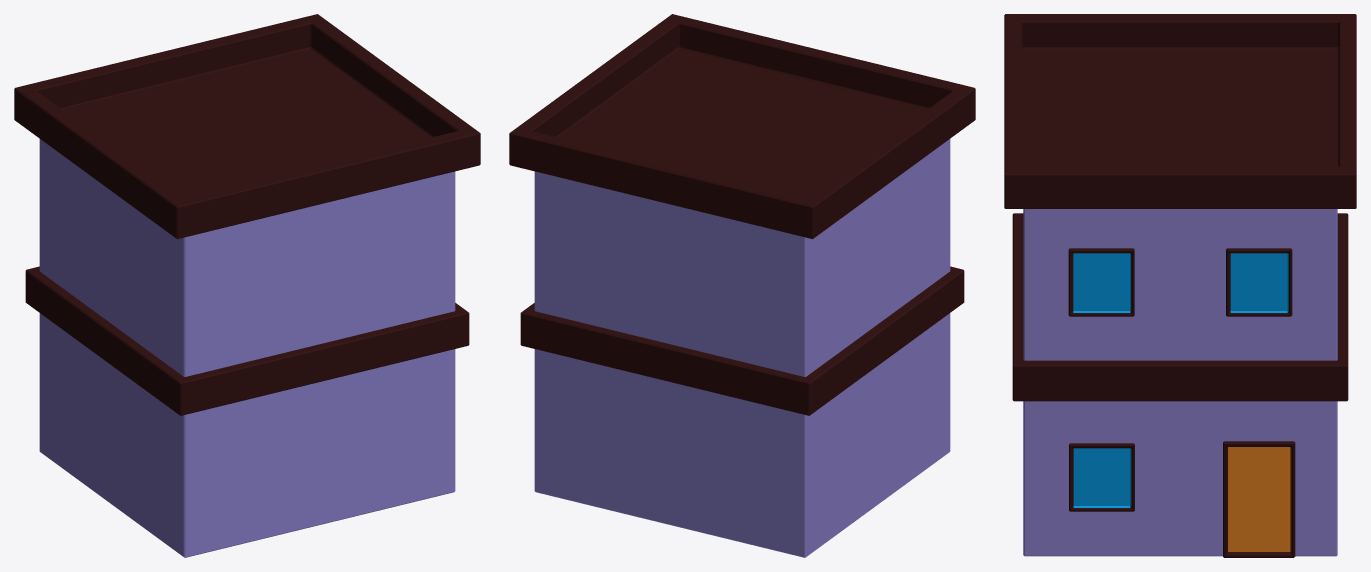
3 renders of one model, left to right at view 1: azimuth 30°, elevation 25°; view 2: azimuth 150°, elevation 25°; view 3: azimuth 270°, elevation 25°, orthographic. The views are drawn at different scales.
Visible parts, largest first — view 1: ev4; view 2: ev4; view 3: ev4.
Boxes of the visible parts, box(x1,y1,x2,y2) form: ev4: box(14, 14, 480, 557); ev4: box(509, 14, 975, 557); ev4: box(1004, 14, 1356, 557).
Size of the model in its own units: 194 by 220 by 180.
